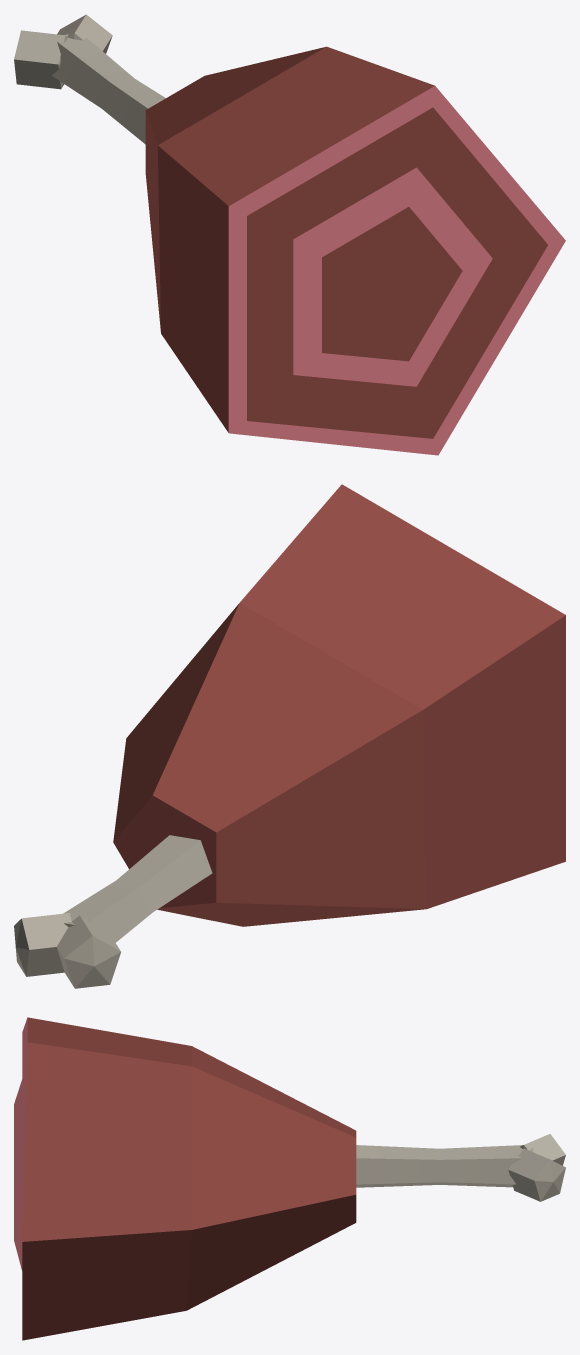
The picture shows the model from 3 angles, top to bottom: view 1: azimuth 30°, elevation 25°; view 2: azimuth 150°, elevation 25°; view 3: azimuth 270°, elevation 25°; orthographic projection. The views are drawn at different scales.
Parts seen in each view (by area): view 1: 肉骨头; view 2: 肉骨头; view 3: 肉骨头.
Part boxes in pixels (x1=…): 肉骨头: x1=14, y1=14, x2=565, y2=455; 肉骨头: x1=14, y1=484, x2=565, y2=988; 肉骨头: x1=14, y1=1017, x2=565, y2=1340.
Bounding box in the file's own units: 13.43 × 14.12 × 23.67.
